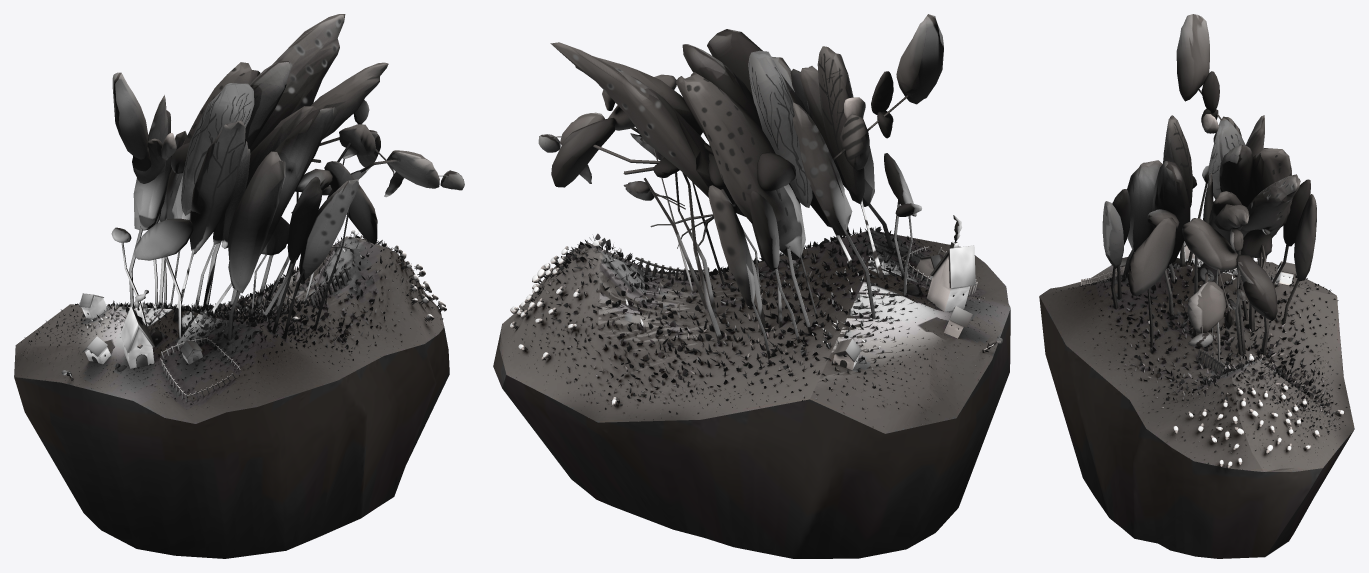
The model's file is hiddenWolf.glb.
The picture shows the model from 3 angles, left to right: view 1: azimuth 30°, elevation 25°; view 2: azimuth 150°, elevation 25°; view 3: azimuth 270°, elevation 25°; orthographic projection. The views are drawn at different scales.
Parts seen in each view (by area): view 1: islandSide, forest, island, houses, sheep; view 2: island, forest, islandSide, houses, sheep; view 3: island, forest, islandSide, sheep, houses.
Boxes of the visible parts, x1,y1,x2,y2 form: islandSide: (14,327,449,558); forest: (111,14,464,339); island: (14,234,444,423); houses: (79,266,351,402); sheep: (290,230,446,322); island: (499,226,1010,433); forest: (538,14,943,358); islandSide: (493,309,1010,558); houses: (635,215,977,370); sheep: (510,240,617,406); island: (1039,258,1354,472); forest: (1102,14,1316,360); islandSide: (1039,296,1353,558); sheep: (1148,320,1344,468); houses: (1081,241,1296,375).
Size of what is drawn, in the model's own units: 8.44 by 9 by 6.16.
6 materials, 6 textured.
